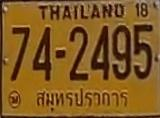2: (68, 26, 88, 80)
4: (31, 26, 53, 82), (90, 25, 110, 80)
5: (133, 24, 153, 80)
7: (11, 26, 31, 80)
9: (111, 25, 132, 80)
SPK: (33, 85, 132, 115)
